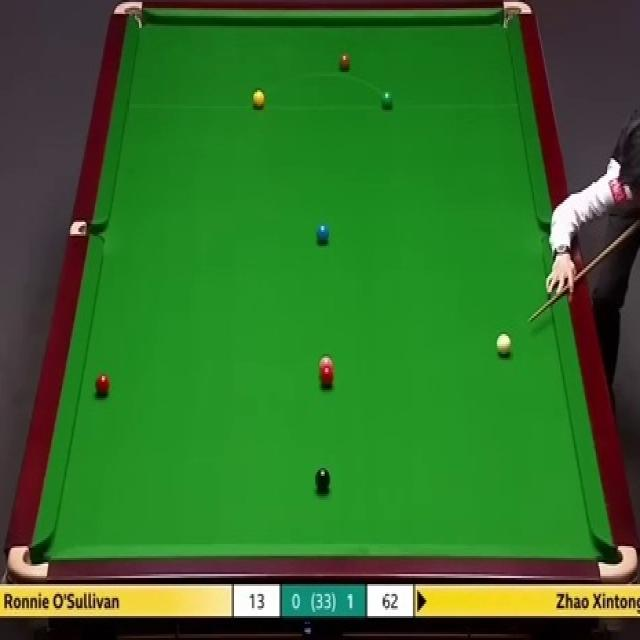black-ball: (314, 467, 331, 492)
blue-ball: (316, 222, 330, 243)
brown-ball: (338, 53, 351, 70)
green-ball: (380, 89, 393, 110)
pink-ball: (318, 354, 335, 372)
red-ball: (96, 374, 110, 395), (318, 370, 334, 387)
white-ball: (496, 334, 511, 357)
yellow-ball: (253, 90, 265, 110)
